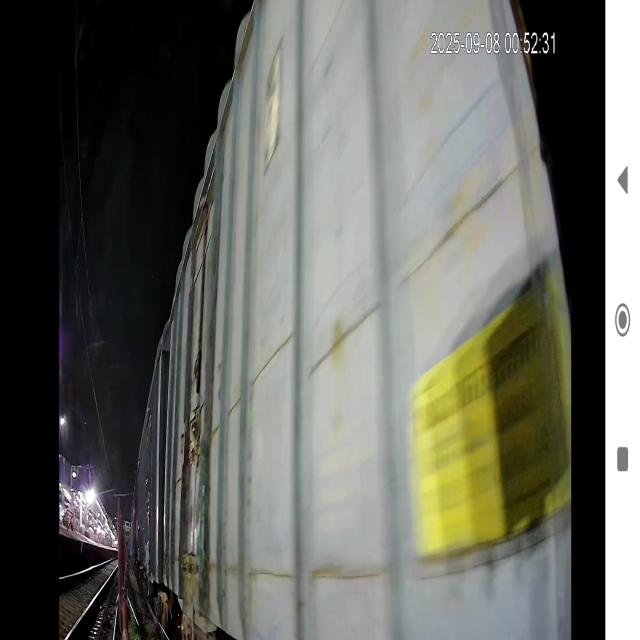coach: (172, 4, 573, 640)
